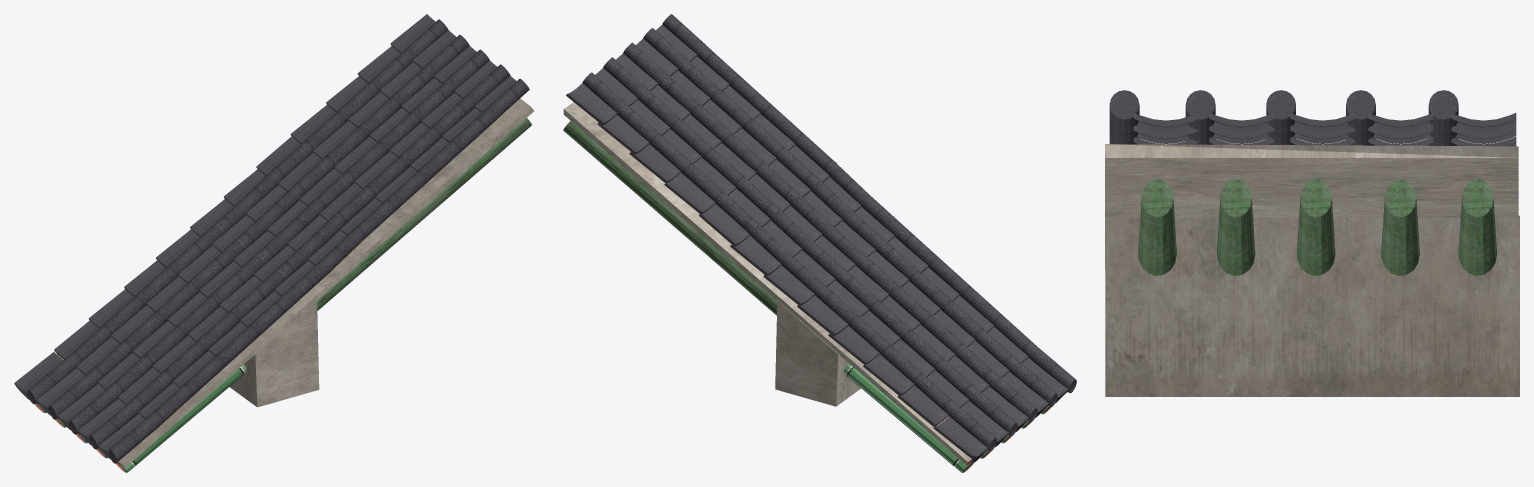
The model's file is SM_Roof_13.fbx.
The picture shows the model from 3 angles, left to right: view 1: azimuth 30°, elevation 25°; view 2: azimuth 150°, elevation 25°; view 3: azimuth 270°, elevation 25°; orthographic projection. The views are drawn at different scales.
Visible parts, largest first — view 1: SM_Roof_13; view 2: SM_Roof_13; view 3: SM_Roof_13.
Part boxes in pixels (bbox=[...]): SM_Roof_13: bbox=[14, 14, 534, 472]; SM_Roof_13: bbox=[563, 14, 1076, 472]; SM_Roof_13: bbox=[1105, 90, 1519, 396].
Size of the model in its own units: 495 by 211 by 336.
5 materials, 5 textured.
